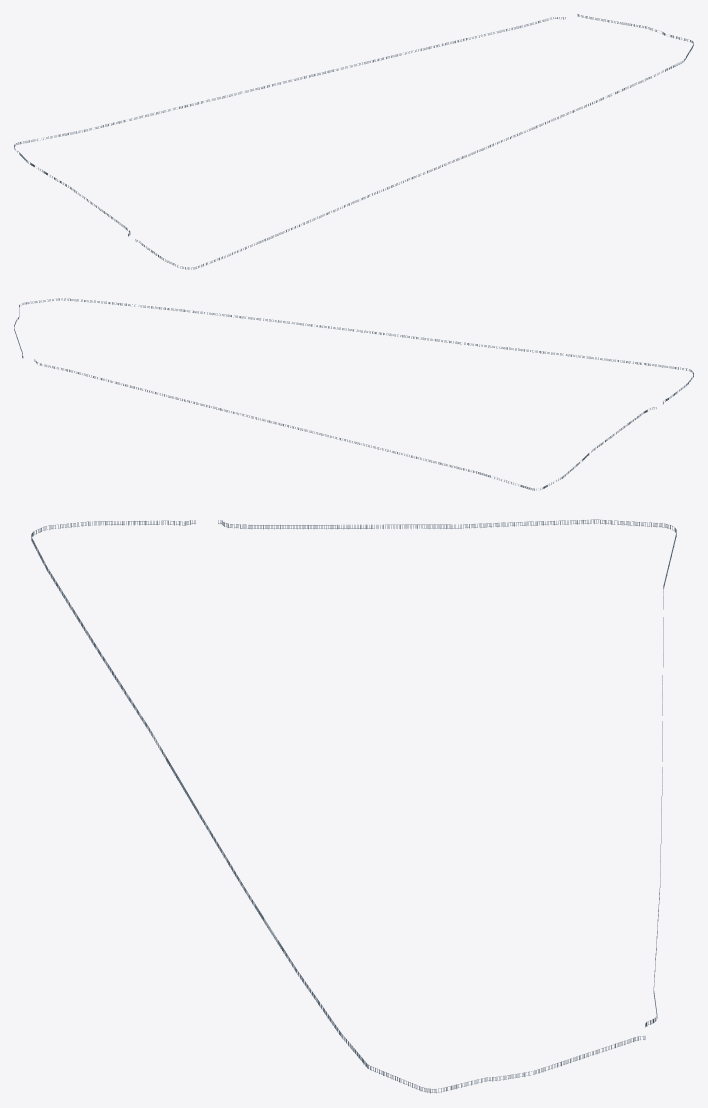
Rendered from SM_GHSPark_Fence.fbx.
The picture shows the model from 3 angles, top to bottom: view 1: azimuth 30°, elevation 25°; view 2: azimuth 150°, elevation 25°; view 3: azimuth 270°, elevation 25°; orthographic projection. The views are drawn at different scales.
Parts seen in each view (by area): view 1: SM_GHSPark_Fence; view 2: SM_GHSPark_Fence; view 3: SM_GHSPark_Fence.
Part boxes in pixels (bbox=[...]): SM_GHSPark_Fence: bbox=[14, 14, 693, 269]; SM_GHSPark_Fence: bbox=[14, 298, 693, 490]; SM_GHSPark_Fence: bbox=[31, 519, 676, 1093].
Size of the model in its own units: 58852 by 28196 by 230.
